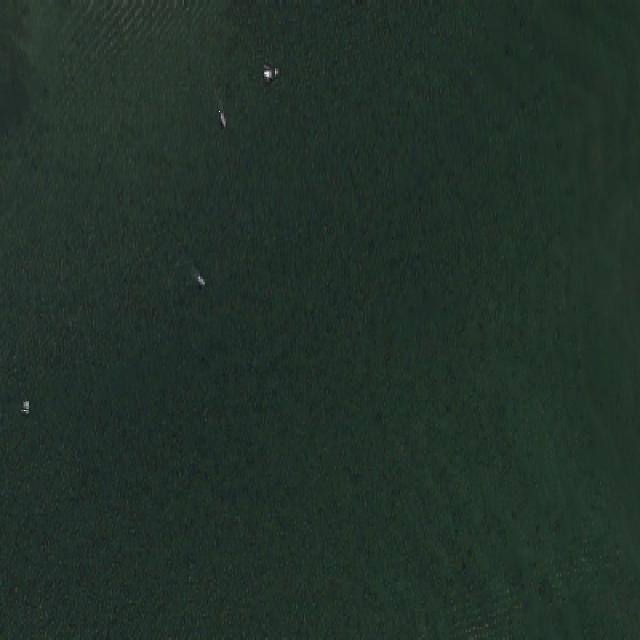boat: (264, 63, 278, 77), (19, 400, 29, 411), (219, 110, 226, 124), (197, 271, 205, 282)
